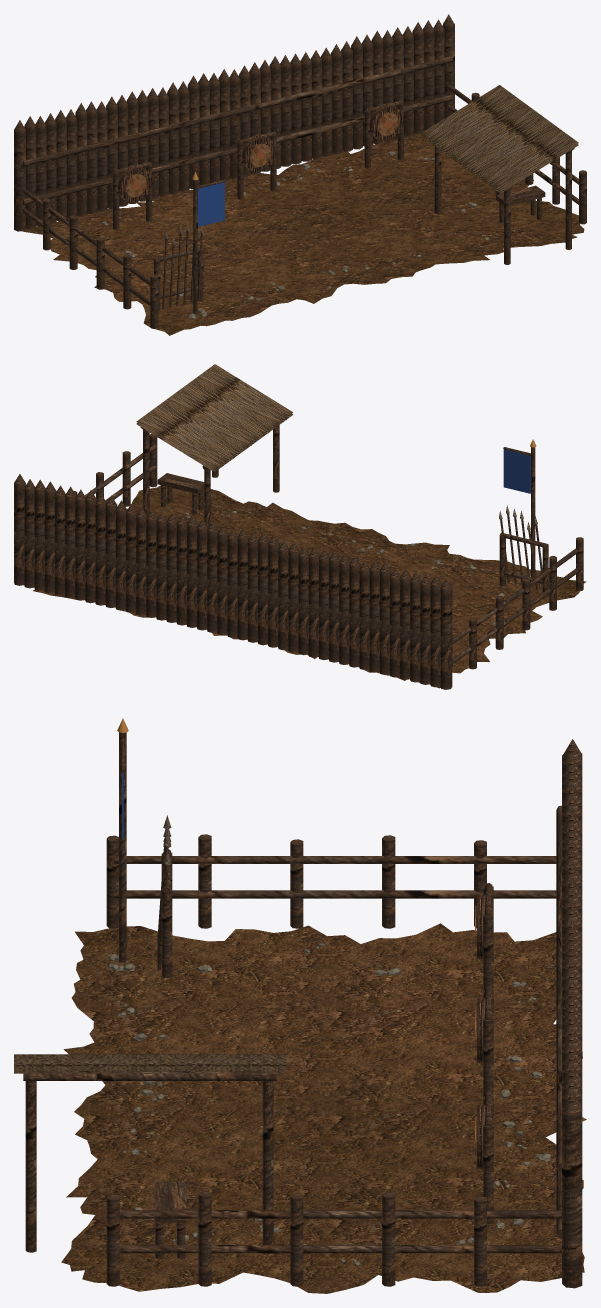
Rendered from archery@2.glb.
The picture shows the model from 3 angles, top to bottom: view 1: azimuth 30°, elevation 25°; view 2: azimuth 150°, elevation 25°; view 3: azimuth 270°, elevation 25°; orthographic projection. The views are drawn at different scales.
Parts seen in each view (by area): view 1: part_2, part_0, part_7, part_3, part_8, part_4, part_1; view 2: part_2, part_0, part_7, part_8; view 3: part_0, part_2, part_7, part_1, part_3.
Part boxes in pixels (x1,y1,x2,y2): part_2: (14,14,586,328); part_0: (23,133,584,335); part_7: (421,85,578,193); part_3: (118,103,403,202); part_8: (197,182,224,226); part_4: (125,112,398,196); part_1: (102,151,512,319); part_2: (14,419,583,689); part_0: (33,485,586,688); part_7: (136,364,293,472); part_8: (503,449,530,493); part_0: (61,923,586,1293); part_2: (23,732,582,1288); part_7: (14,1054,285,1073); part_1: (107,943,550,1266); part_3: (477,894,491,1168).
Bounding box in the file's own units: 7.59 × 2.36 × 4.96.
10 materials, 7 textured.
